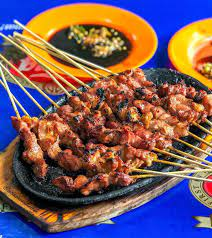sate: (6, 59, 212, 210)
